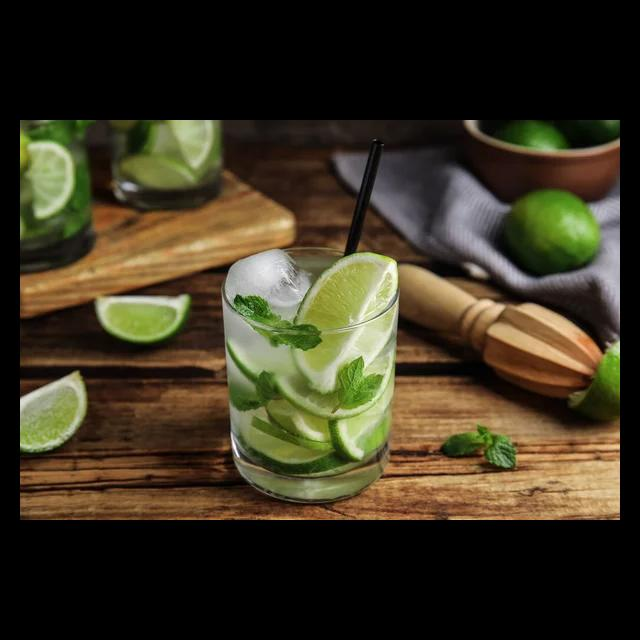lime: (497, 180, 606, 293), (589, 323, 620, 425)
